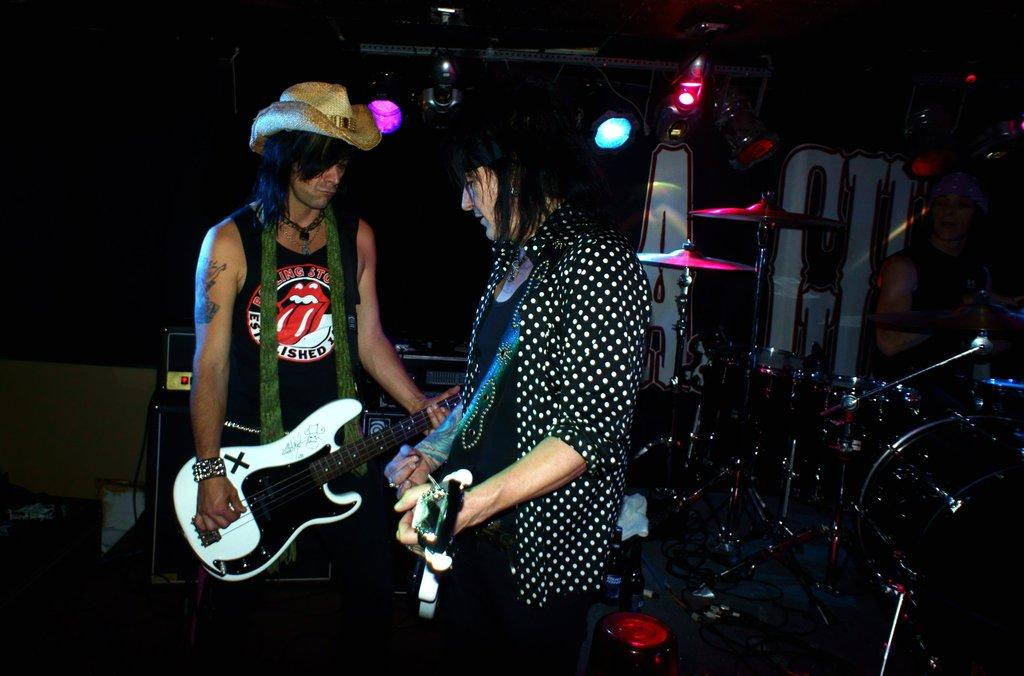Hat: (246, 85, 382, 157)
